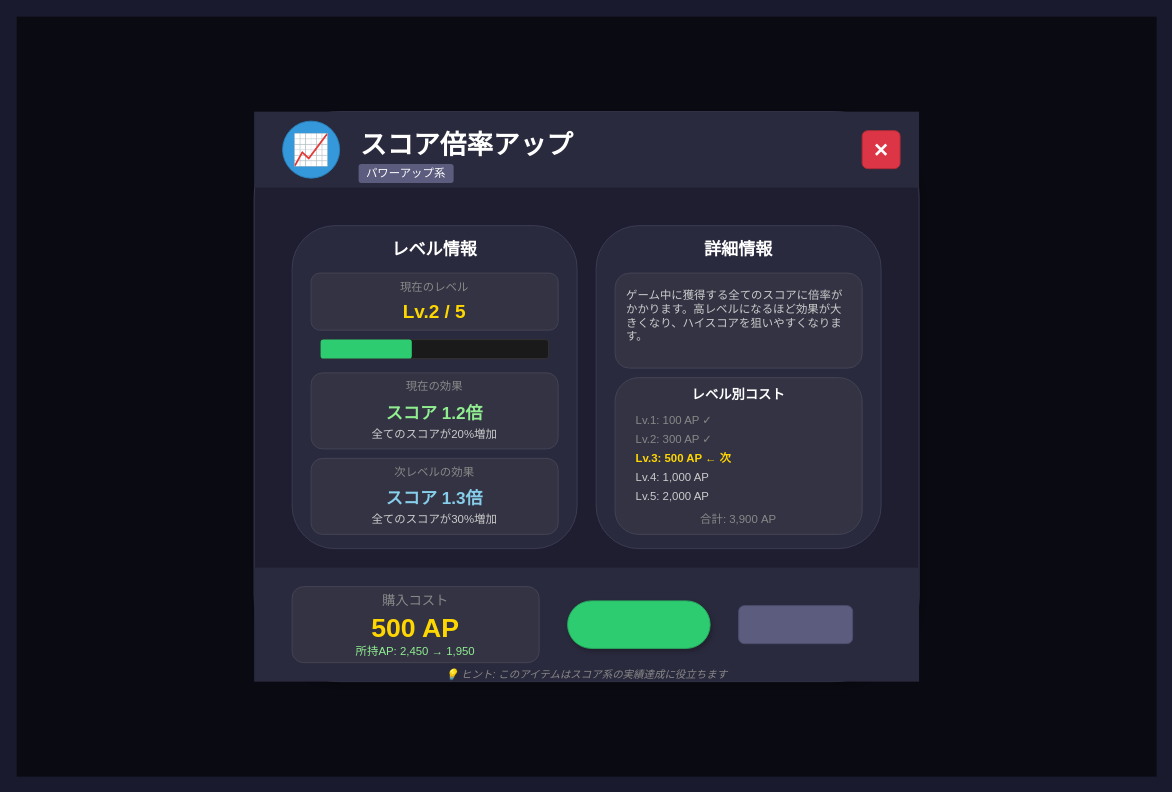
Some shapes in this 1172 by 792 pixel diagram are drawn without their labels. Here are the shapes that lost their labels. From the top down, the centre of each, then its label:
At (x=639, y=625): "購入する".
At (x=795, y=624): "キャンセル".
